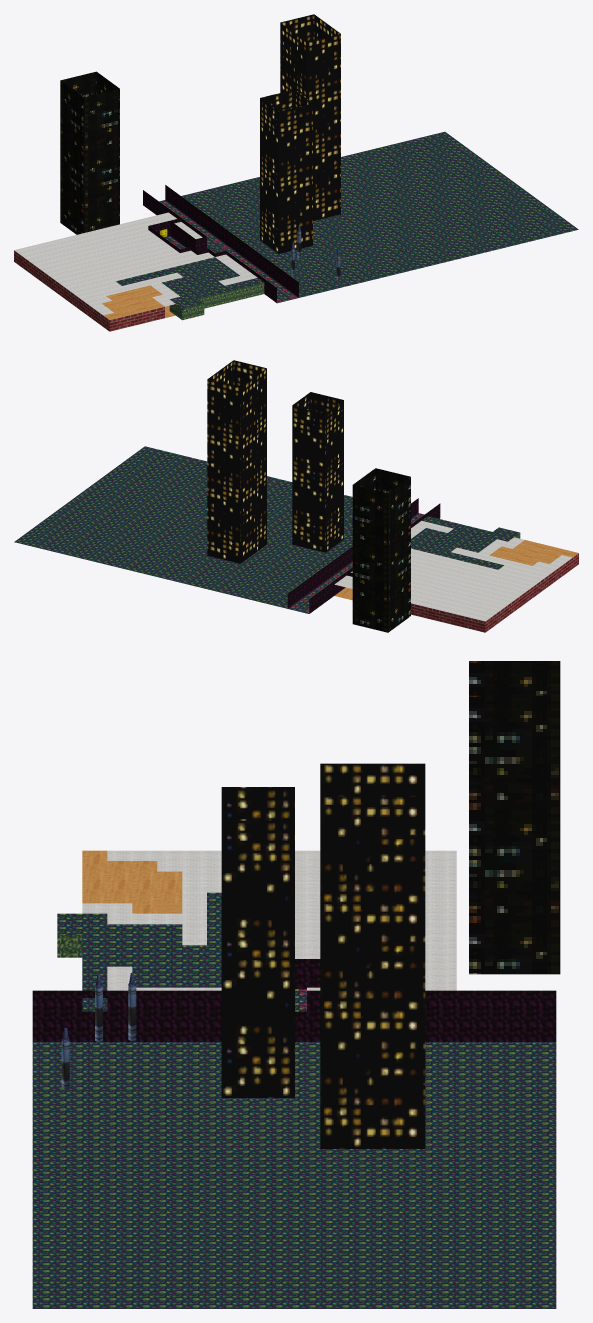
File: maze.glb
3 renders of one model, top to bottom at view 1: azimuth 30°, elevation 25°; view 2: azimuth 150°, elevation 25°; view 3: azimuth 270°, elevation 25°, orthographic. The views are drawn at different scales.
Visible parts, largest first — view 1: floor, building, ceiling, wall, brick_wall, crayon; view 2: building, floor, ceiling, brick_wall, wall; view 3: floor, building, ceiling, wall, crayon.
Part boxes in pixels (<box>): floor: <box>159,131,578,317</box>; building: <box>60,14,340,253</box>; ceiling: <box>14,212,263,319</box>; wall: <box>143,185,298,320</box>; brick_wall: <box>14,250,164,331</box>; crayon: <box>291,225,340,280</box>; building: <box>207,360,410,632</box>; floor: <box>14,446,424,613</box>; ceiling: <box>334,516,578,621</box>; brick_wall: <box>411,553,578,632</box>; wall: <box>287,498,520,613</box>; floor: <box>32,989,556,1308</box>; building: <box>221,661,560,1148</box>; ceiling: <box>57,850,456,990</box>; wall: <box>32,935,556,1041</box>; crayon: <box>61,972,136,1088</box>.
Bounding box in the file's own units: 124 × 48.2 × 63.48.
Materials: 13 (12 with a texture image).
